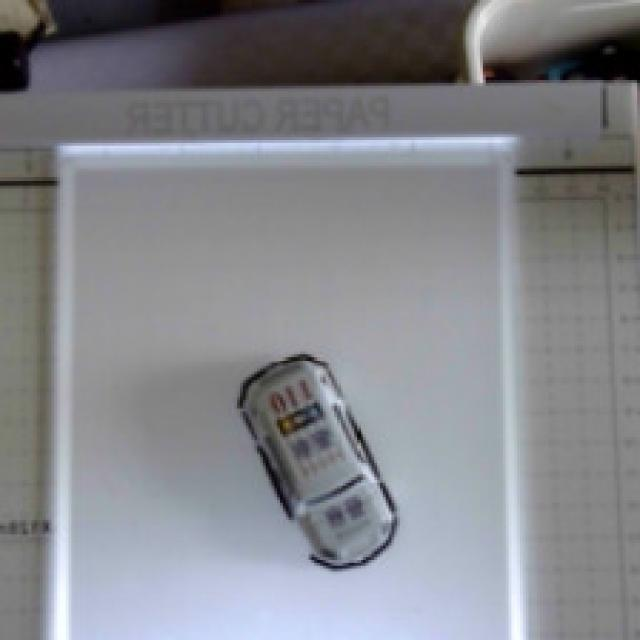Grey Car: (210, 303, 449, 610)
